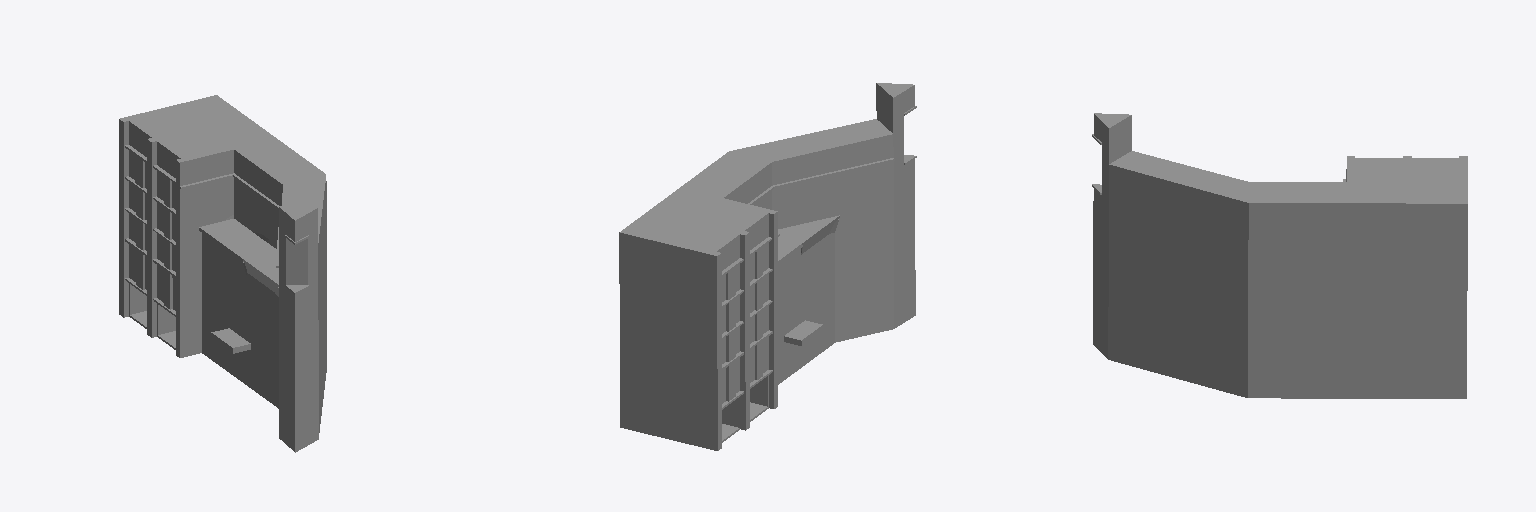
Rendered from new_ictc_triangulated.obj.
3 renders of one model, left to right at view 1: azimuth 30°, elevation 25°; view 2: azimuth 150°, elevation 25°; view 3: azimuth 270°, elevation 25°, orthographic.
Parts seen in each view (by area): view 1: Cube.001; view 2: Cube.001; view 3: Cube.001.
Part boxes in pixels (bbox=[...]): Cube.001: bbox=[119, 95, 326, 452]; Cube.001: bbox=[619, 83, 916, 450]; Cube.001: bbox=[1092, 113, 1467, 398].
Size of the model in its own units: 2.9 by 5.89 by 8.61.